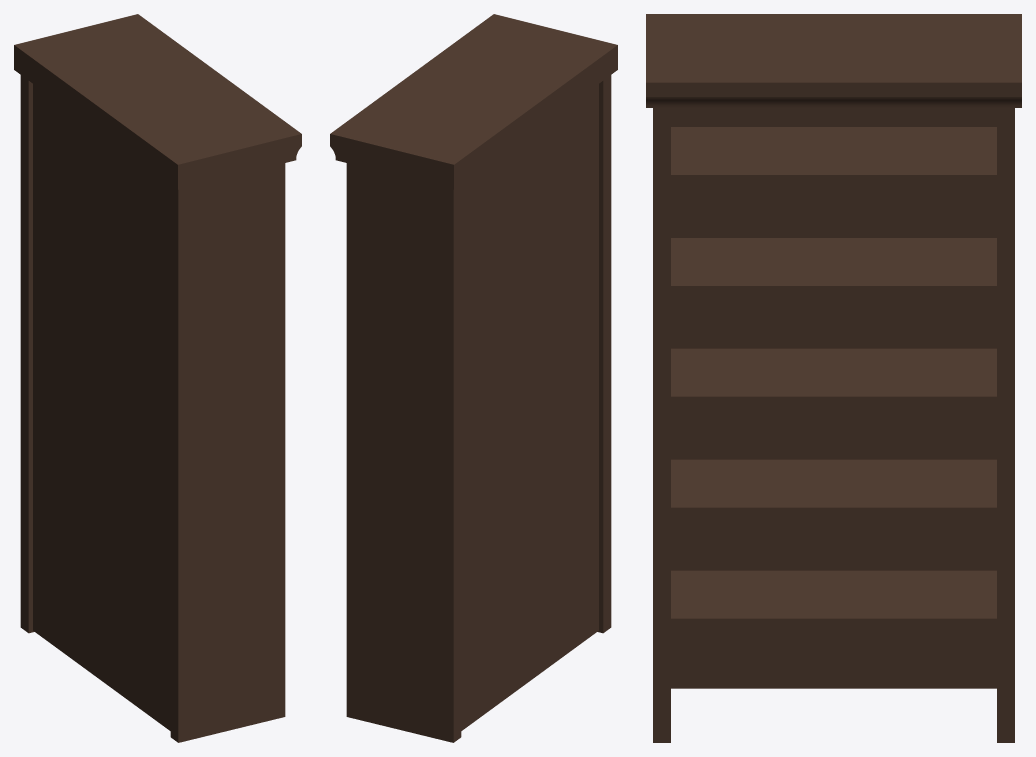
The model's file is S_Shelf.fbx.
The picture shows the model from 3 angles, left to right: view 1: azimuth 30°, elevation 25°; view 2: azimuth 150°, elevation 25°; view 3: azimuth 270°, elevation 25°; orthographic projection. The views are drawn at different scales.
Parts seen in each view (by area): view 1: S_Shelf; view 2: S_Shelf; view 3: S_Shelf.
Boxes of the visible parts, x1=… form: S_Shelf: x1=14, y1=14, x2=301, y2=742; S_Shelf: x1=330, y1=14, x2=617, y2=742; S_Shelf: x1=646, y1=14, x2=1021, y2=742.
Bounding box in the file's own units: 63.2 × 283 × 145.
